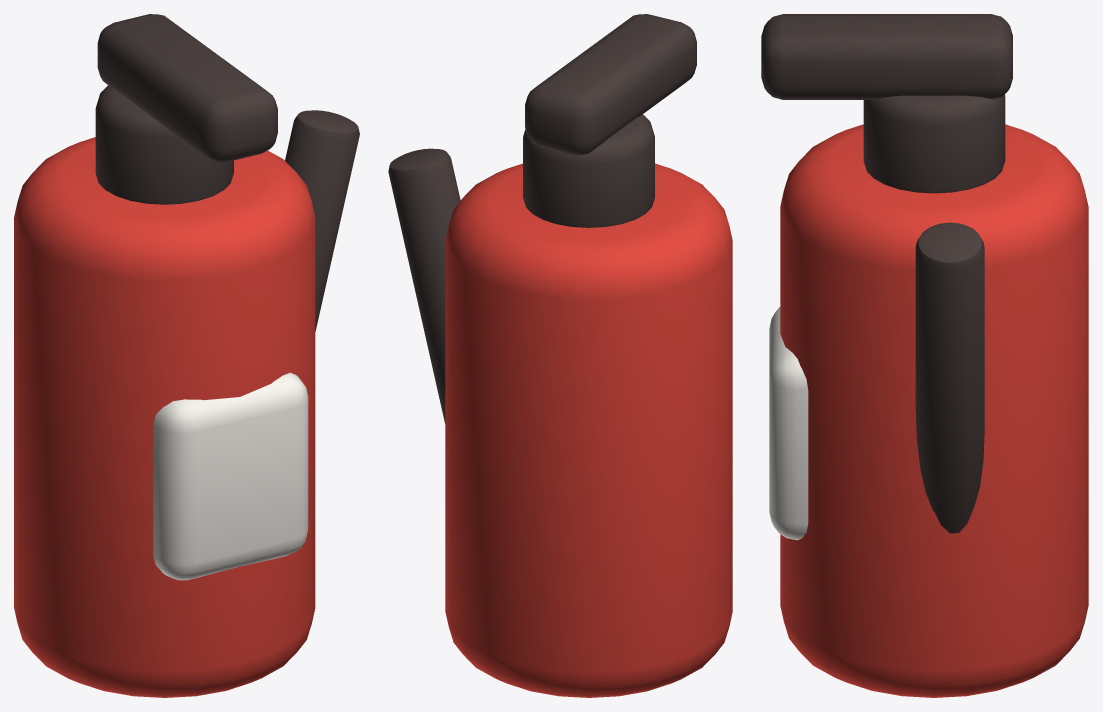
The model's file is part_extinguisher.glb.
3 renders of one model, left to right at view 1: azimuth 30°, elevation 25°; view 2: azimuth 150°, elevation 25°; view 3: azimuth 270°, elevation 25°, orthographic. The views are drawn at different scales.
Visible parts, largest first — view 1: Ext_Body, Ext_Label, Ext_Handle, Ext_Neck, Ext_Hose; view 2: Ext_Body, Ext_Handle, Ext_Neck, Ext_Hose; view 3: Ext_Body, Ext_Handle, Ext_Hose, Ext_Neck, Ext_Label.
Boxes of the visible parts, x1,y1,x2,y2 form: Ext_Body: (14,137,315,697); Ext_Label: (153,373,308,580); Ext_Handle: (97,14,277,162); Ext_Neck: (95,85,233,204); Ext_Hose: (285,110,359,331); Ext_Body: (445,163,732,697); Ext_Handle: (525,14,696,155); Ext_Neck: (523,114,654,227); Ext_Hose: (388,148,460,423); Ext_Body: (780,124,1088,697); Ext_Handle: (761,14,1012,99); Ext_Hose: (915,222,984,533); Ext_Neck: (863,94,1005,193); Ext_Label: (769,307,808,540).
Size of the model in its own units: 0.2469 by 0.4375 by 0.208.
